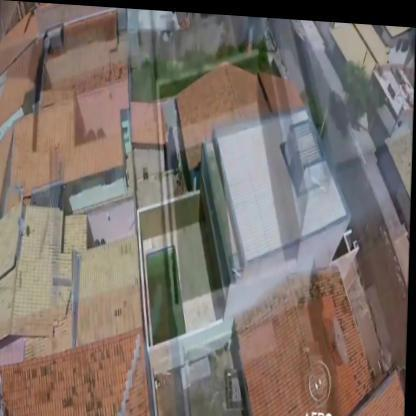lixo: (147, 248, 189, 334)
